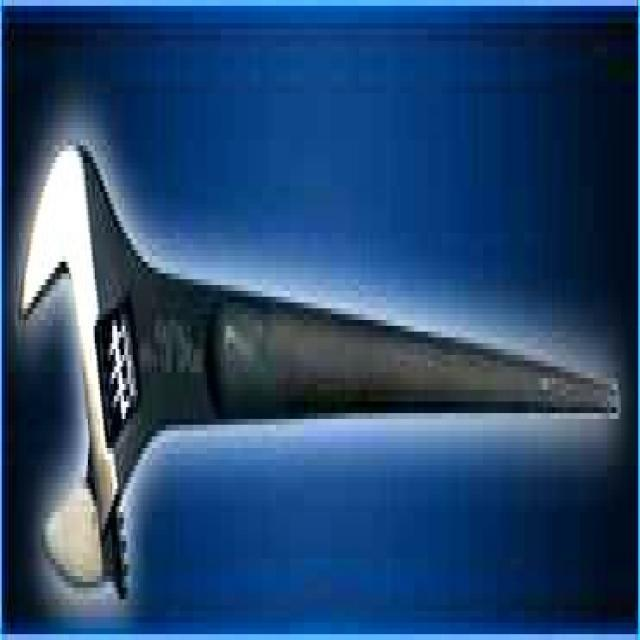wrench: (14, 132, 622, 618)
